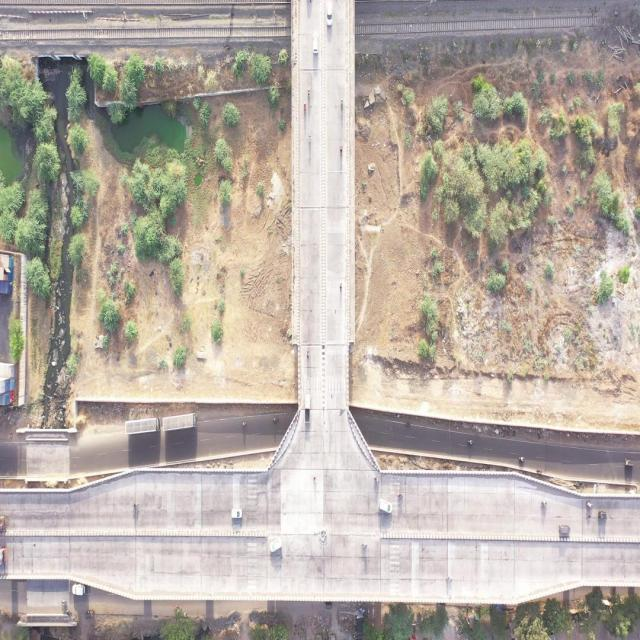3W: (597, 509, 608, 522), (624, 458, 634, 468), (85, 610, 94, 620), (323, 602, 332, 609)
Bus: (124, 414, 162, 437), (162, 412, 200, 434)
Cars: (377, 496, 393, 520), (269, 536, 283, 554), (326, 1, 334, 30), (312, 27, 319, 56), (230, 506, 244, 520), (71, 583, 86, 596), (558, 524, 571, 536)
LCV: (303, 391, 313, 426)
M2W: (444, 574, 454, 582), (373, 474, 379, 486), (586, 501, 594, 510), (397, 490, 404, 500), (60, 600, 70, 606), (339, 144, 344, 156), (65, 608, 72, 616), (361, 541, 368, 549), (467, 438, 474, 446), (404, 421, 412, 428), (338, 282, 342, 295), (303, 101, 307, 114), (312, 473, 317, 483), (306, 348, 310, 360), (308, 132, 312, 144), (241, 421, 249, 427), (541, 499, 547, 506), (340, 97, 343, 110), (536, 469, 543, 474), (518, 456, 525, 461), (272, 417, 279, 422), (132, 503, 140, 507), (308, 86, 310, 98)
